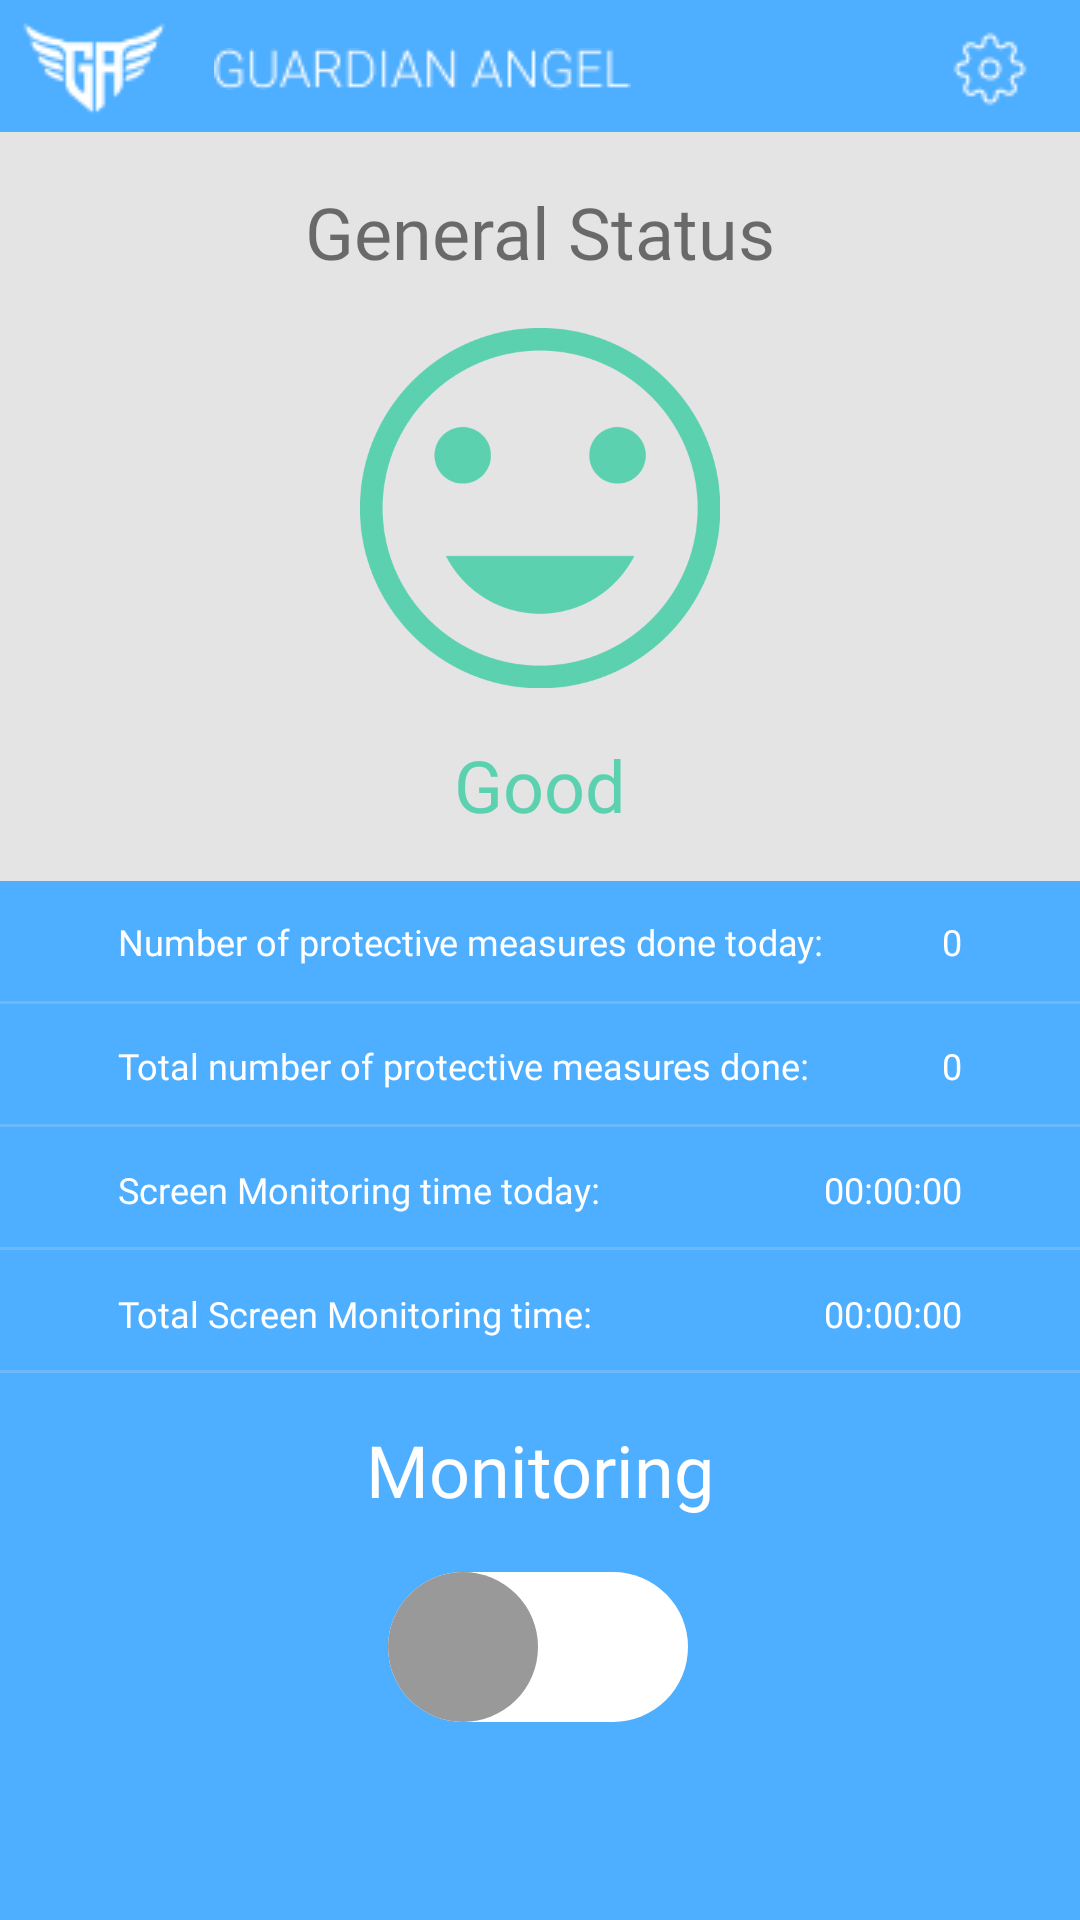

Where to tap for icons on this 1080x1920 app screen, as (x,y):
settings: (990,69)
